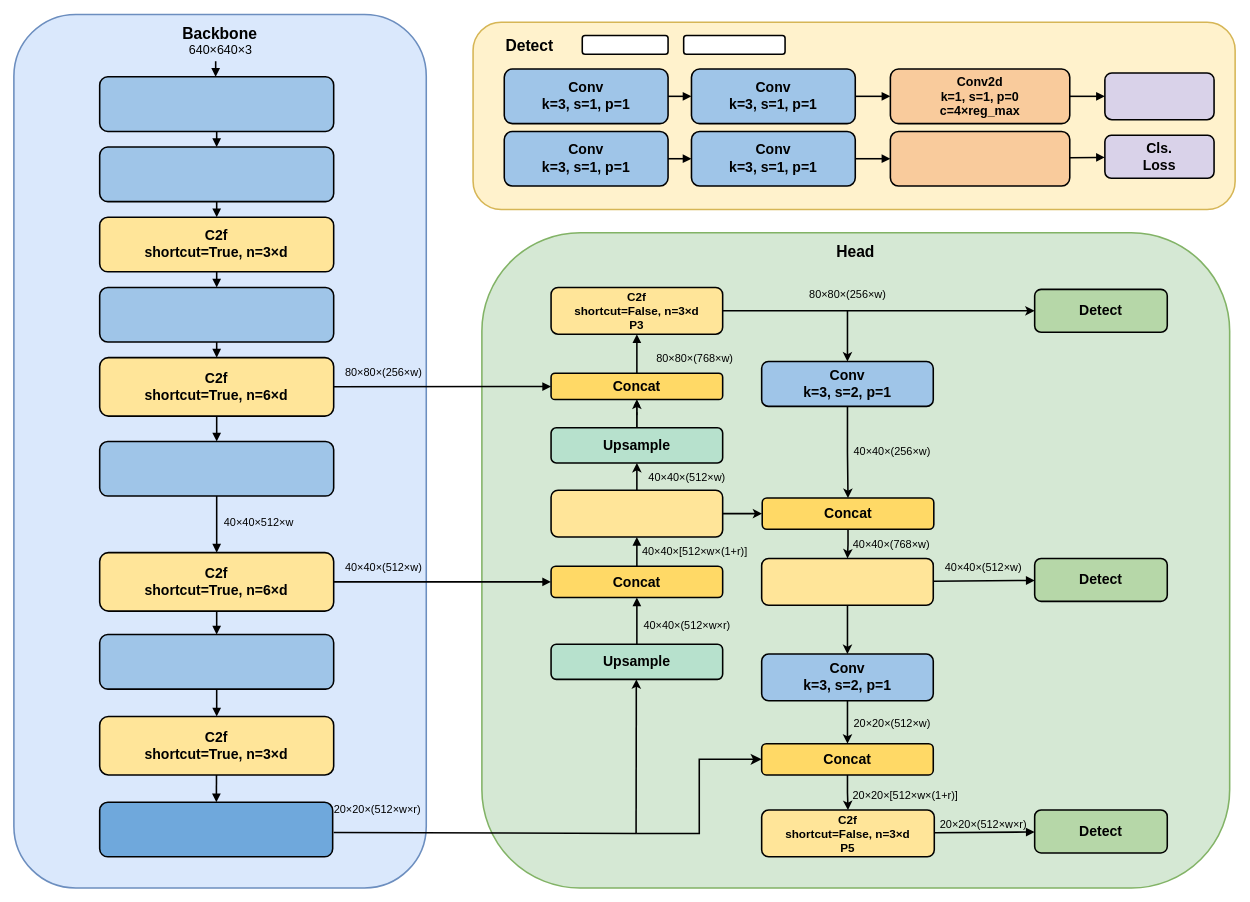
Some shapes in this 1250 by 902 pixel diagram are drawn without their labels. Here are the shapes that lost their labels. From the top down, the centre of each, then its label:
At point (624, 44): "AnchorFree".
At point (733, 44): "Assigner: TAL".
At point (216, 104): "Conv k=3, s=2, p=1 P1".
At point (1159, 96): "Bbox. Loss".
At point (216, 174): "Conv k=3, s=2, p=1 P2".
At point (979, 158): "Conv2d k=1, s=1, p=0 c=nc".
At point (216, 314): "Conv k=3, s=2, p=1 P3".
At point (216, 468): "Conv k=3, s=2, p=1 P4".
At point (636, 513): "C2f shortcut=False, n=3×d".
At point (847, 581): "C2f shortcut=False, n=3×d P4".
At point (216, 661): "Conv k=3, s=2, p=1 P5".
At point (216, 829): "SPPF P5 (Stride=32)".
